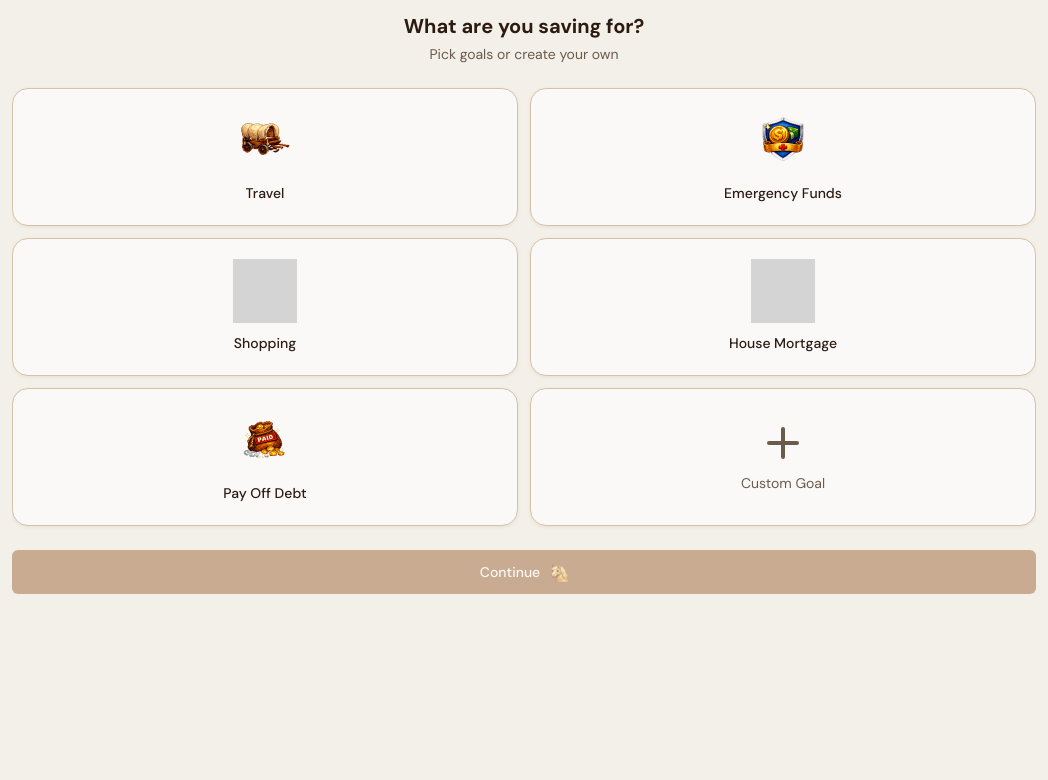
Scenario: GoalsPage › shows custom goal form when Custom Goal is clicked
Step 1. Click the button "Custom Goal" → {"x": 783, "y": 457}, box [530,388,1036,526]
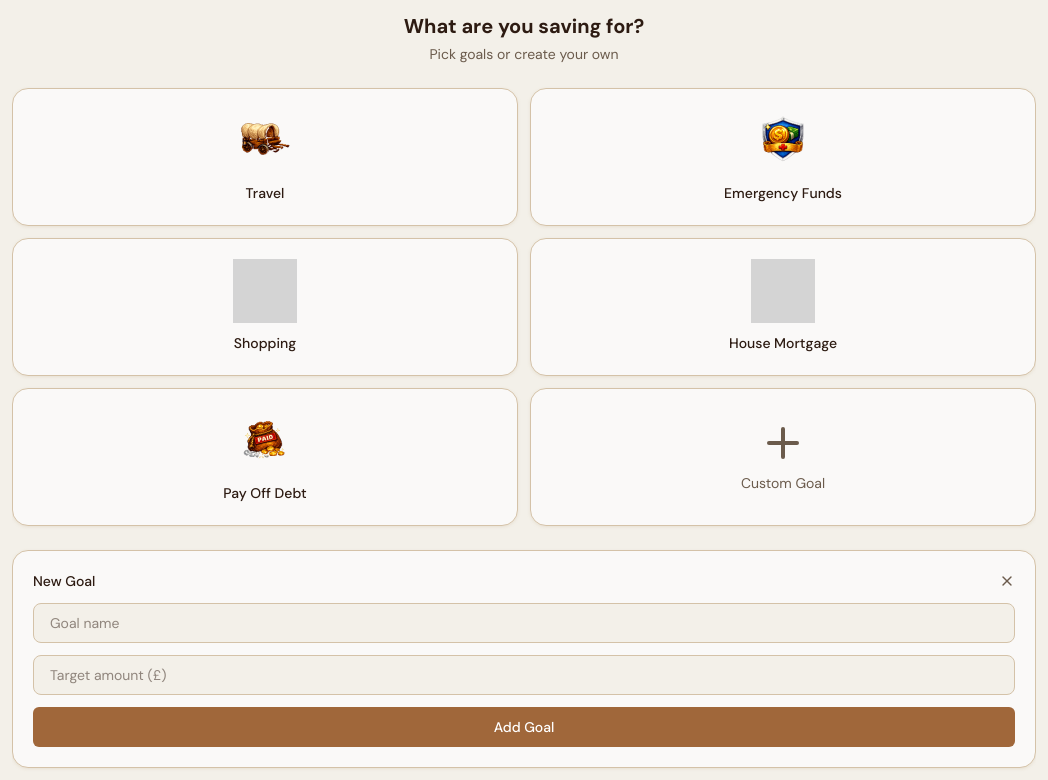
Expected: the field with placeholder "Goal name" is shown, [33,603,1015,643]
Expected: the number field with placeholder "Target amount (£)" is shown, [33,655,1015,695]
